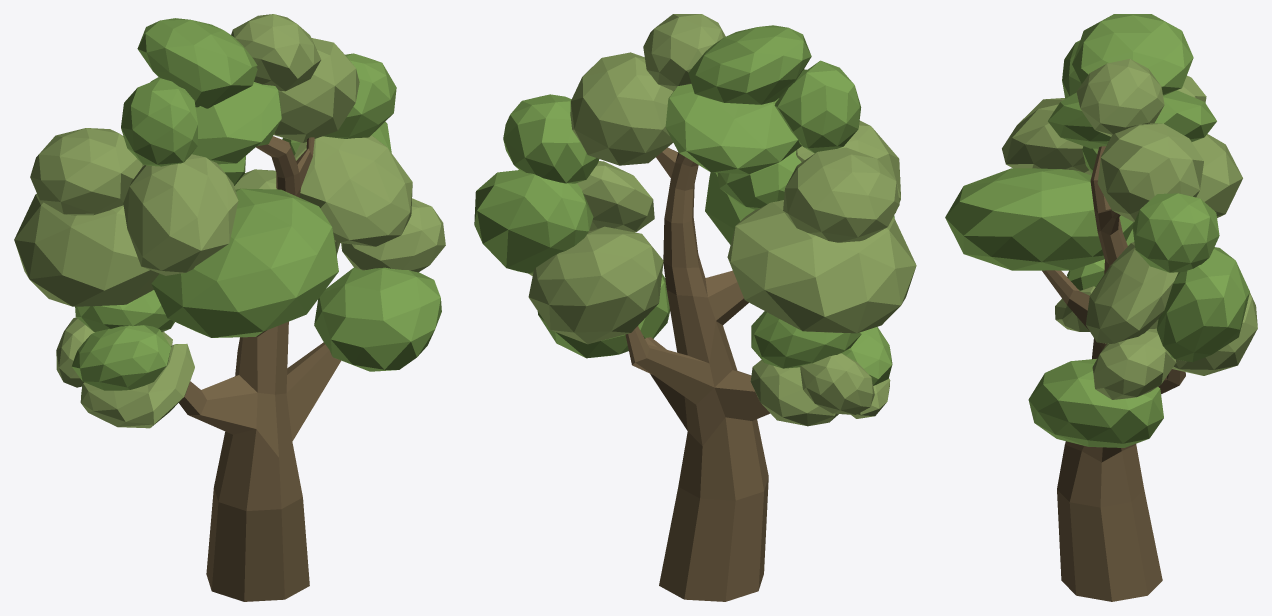
The model's file is Oak_Tree.gltf.
3 views of the same model, side by side, from view 1: azimuth 30°, elevation 25°; view 2: azimuth 150°, elevation 25°; view 3: azimuth 270°, elevation 25° (orthographic). The views are drawn at different scales.
Visible parts, largest first — view 1: Oak_Cylinder.004; view 2: Oak_Cylinder.004; view 3: Oak_Cylinder.004.
Part boxes in pixels (bbox=[...]): Oak_Cylinder.004: bbox=[14, 14, 445, 601]; Oak_Cylinder.004: bbox=[474, 14, 916, 601]; Oak_Cylinder.004: bbox=[945, 14, 1257, 601].
Bounding box in the file's own units: 3.96 × 5.31 × 2.84.
